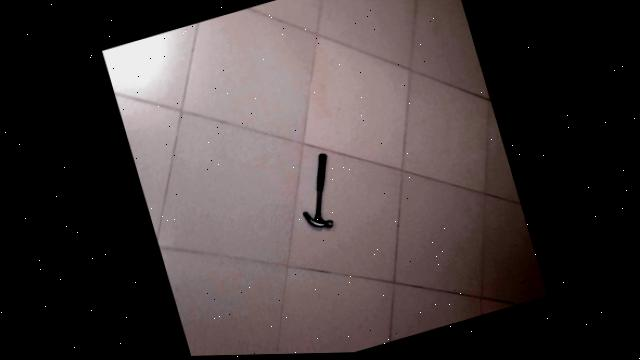hammer: (283, 142, 351, 244)
